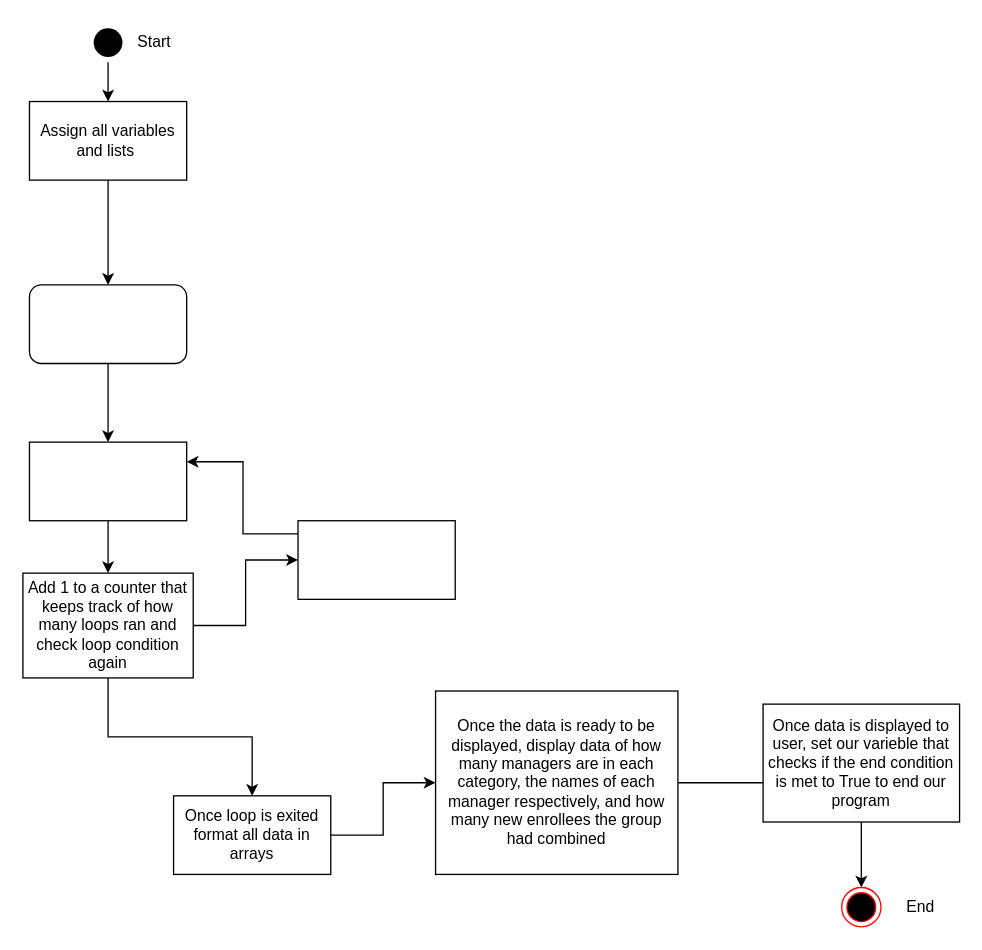
Image size: 982x950. Some labels were removed from this diagram. Each missing label, with the centre of its shape:
"Ask user for their name and amount of employees enrolled" goes at point 107,324.
"Check user input against conditions and process data into its respective list" goes at point 107,481.
"If less than 15 entries have been entered run loop again" goes at point 376,559.
